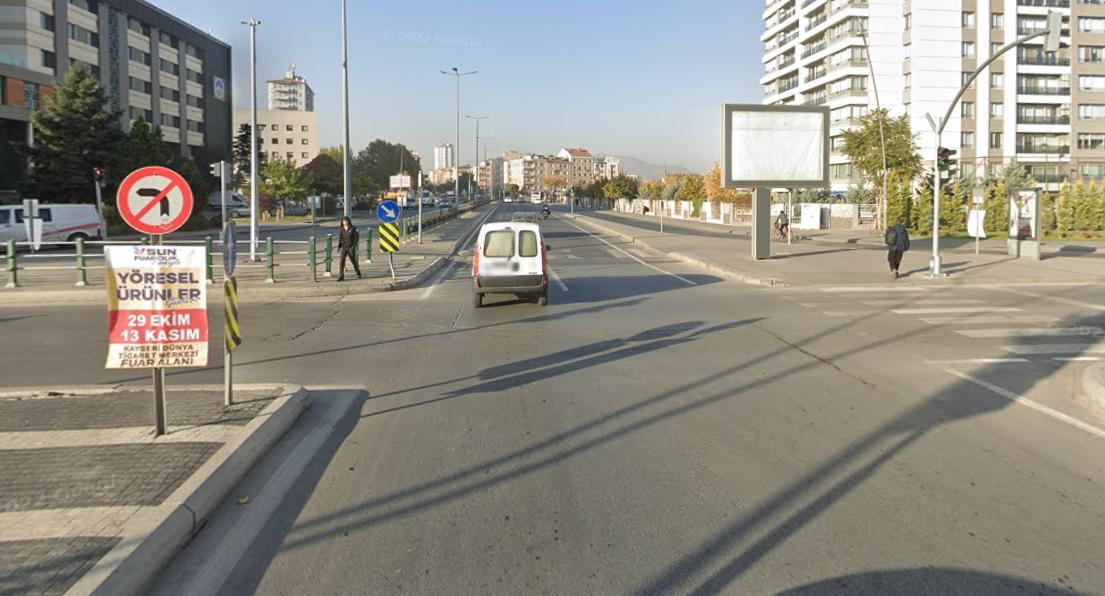leftturnsareforbidden: (119, 166, 195, 233)
